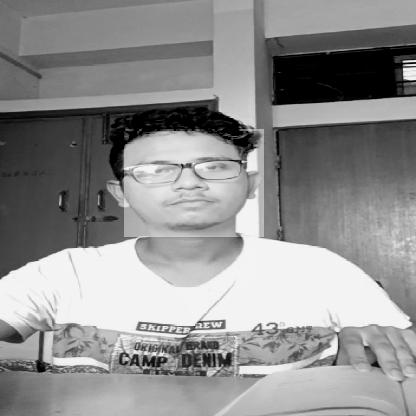Normal: (124, 129, 264, 237)
